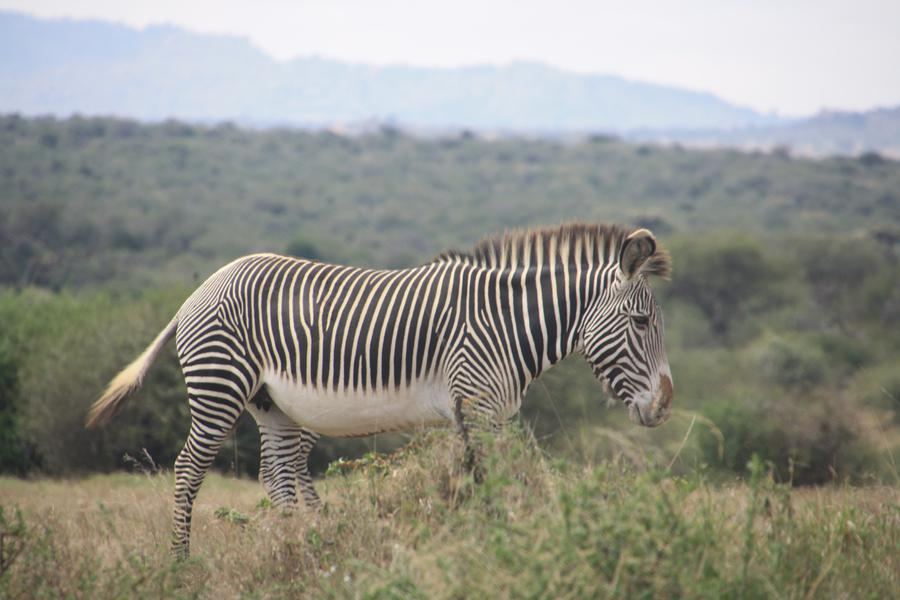zebra_grevys: (159, 215, 521, 414)
